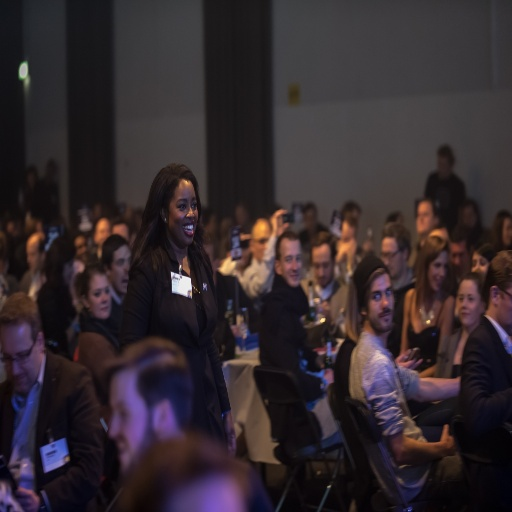hand: (221, 408, 237, 460), (17, 487, 42, 511), (395, 349, 423, 369), (271, 209, 290, 238), (314, 301, 329, 331), (441, 424, 454, 456), (346, 238, 355, 272), (322, 369, 336, 385), (338, 242, 347, 263)
